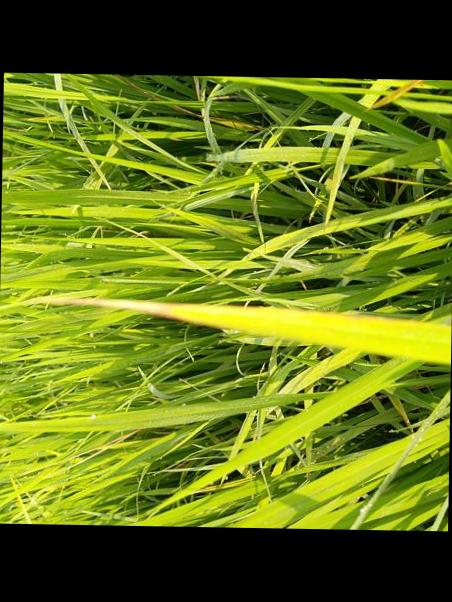Leaf Blight: (46, 292, 452, 363)
